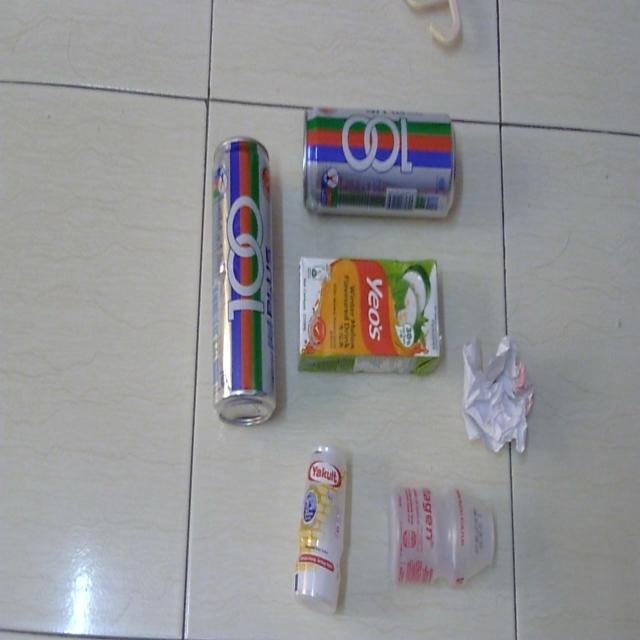metal_laydown_0rotation: (296, 92, 464, 222)
metal_laydown_90rotation: (206, 134, 280, 433)
paperrotation: (454, 326, 538, 459)
plastic_laydown_0rotation: (292, 247, 450, 379), (385, 466, 498, 604)
plastic_laydown_90rotation: (292, 443, 352, 621)
